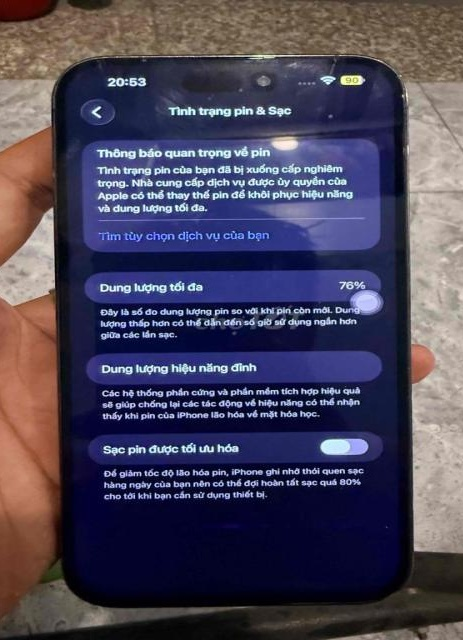scratch: (302, 48, 351, 81), (105, 48, 160, 67)
